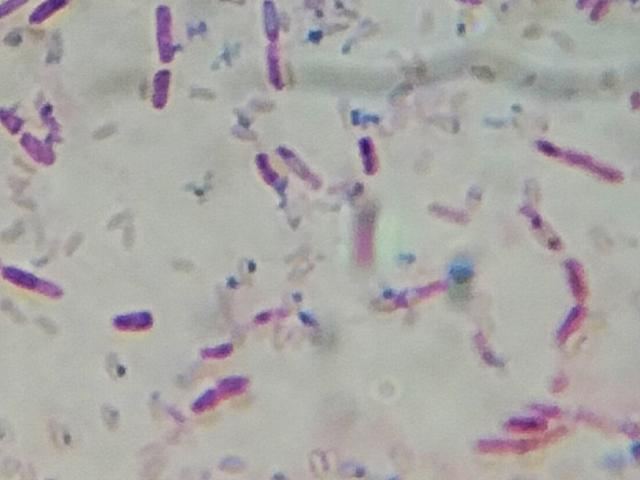E. coli: (529, 133, 632, 191), (192, 373, 252, 418), (276, 139, 326, 193), (518, 200, 566, 254), (2, 260, 63, 297), (577, 408, 640, 438), (485, 435, 568, 457), (115, 306, 158, 344), (259, 36, 288, 89), (19, 127, 56, 166), (152, 5, 176, 63), (559, 301, 592, 343), (358, 133, 385, 177), (153, 62, 174, 114), (195, 336, 235, 362), (32, 0, 69, 26), (1, 100, 25, 138), (565, 260, 588, 299), (258, 150, 279, 192), (524, 401, 567, 421), (506, 415, 544, 435), (263, 0, 279, 31)
